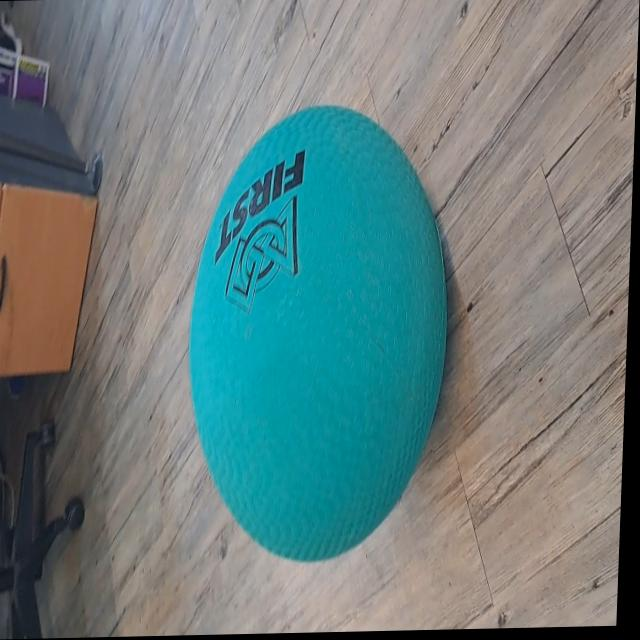ALGAE: (179, 100, 457, 568)
